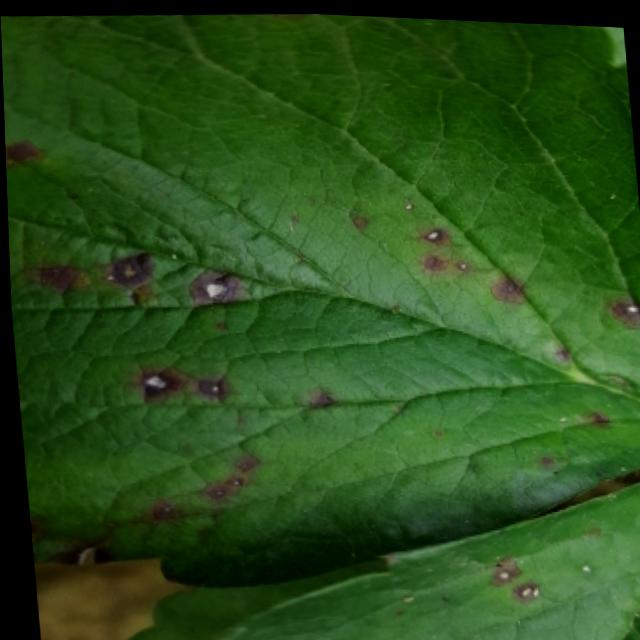Leaf Spot: (0, 11, 640, 590), (201, 472, 640, 640)
